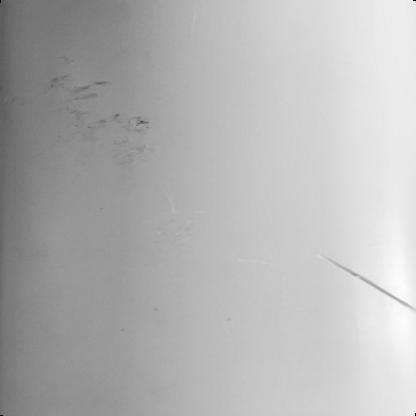sunshang: (330, 260, 416, 312)
